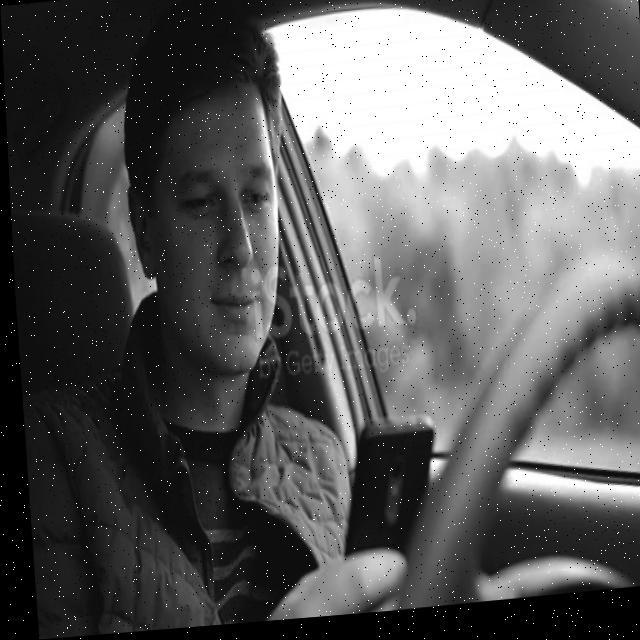PhoneCall: (328, 417, 437, 592)
